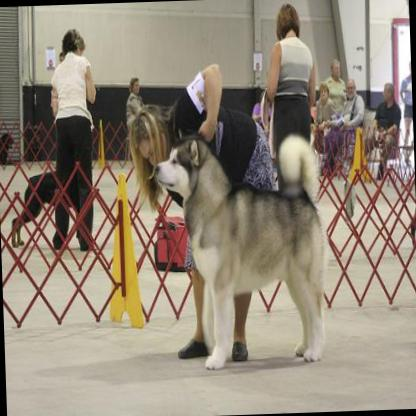malamute: (152, 128, 326, 372)
